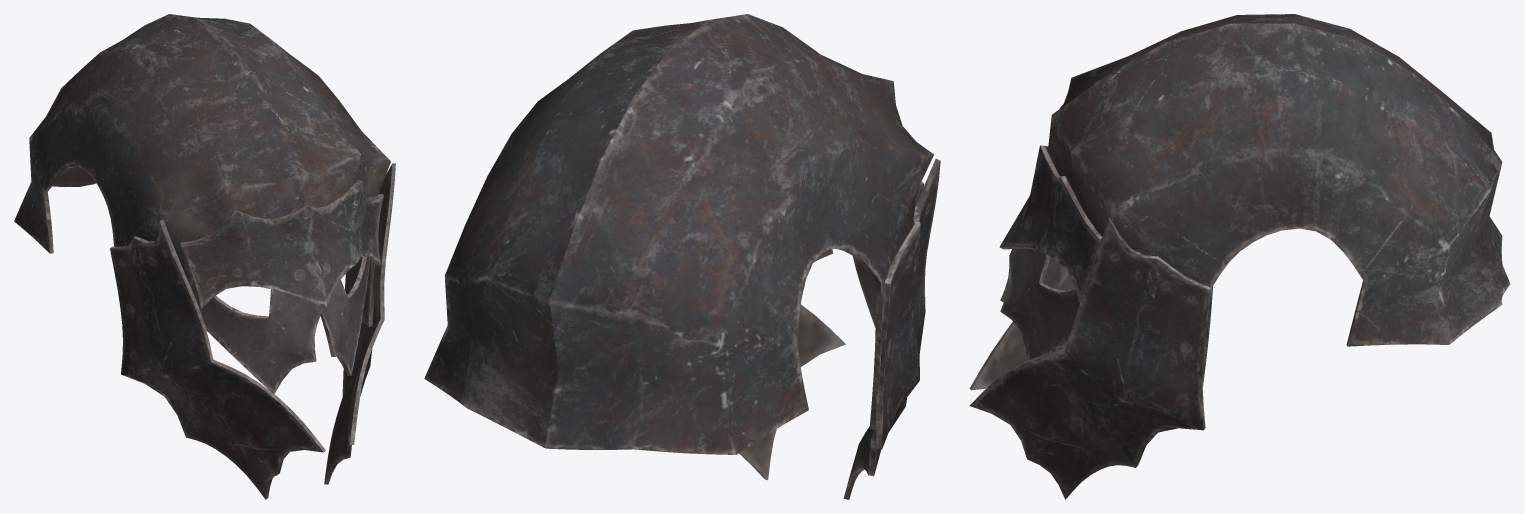
File: sk_dg_uruk_helmet_elite_e.fbx
3 views of the same model, side by side, from view 1: azimuth 30°, elevation 25°; view 2: azimuth 150°, elevation 25°; view 3: azimuth 270°, elevation 25° (orthographic). The views are drawn at different scales.
Parts seen in each view (by area): view 1: sk_dg_uruk_helmet_elite_e; view 2: sk_dg_uruk_helmet_elite_e; view 3: sk_dg_uruk_helmet_elite_e.
Part boxes in pixels (bbox=[...]): sk_dg_uruk_helmet_elite_e: bbox=[14, 14, 395, 499]; sk_dg_uruk_helmet_elite_e: bbox=[424, 14, 940, 499]; sk_dg_uruk_helmet_elite_e: bbox=[969, 14, 1510, 499].
Bounding box in the file's own units: 0.2011 × 0.3301 × 0.3089.
1 material, 1 textured.
